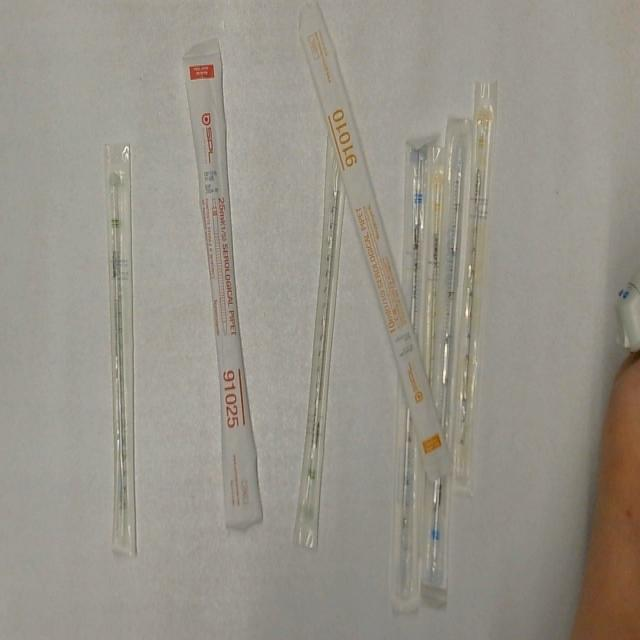Pipette Controller: (613, 262, 640, 362)
Serelogical Pipet 1 mL: (452, 80, 499, 485), (415, 144, 452, 392)
Serelogical Pipet 10 mL: (297, 3, 457, 484)
Serelogical Pipet 2 mL: (291, 122, 349, 552), (102, 135, 140, 564)
Serelogical Pipet 25 mL: (180, 35, 264, 534)
Serelogical Pipet 5 mL: (420, 115, 477, 593), (384, 131, 438, 614)
